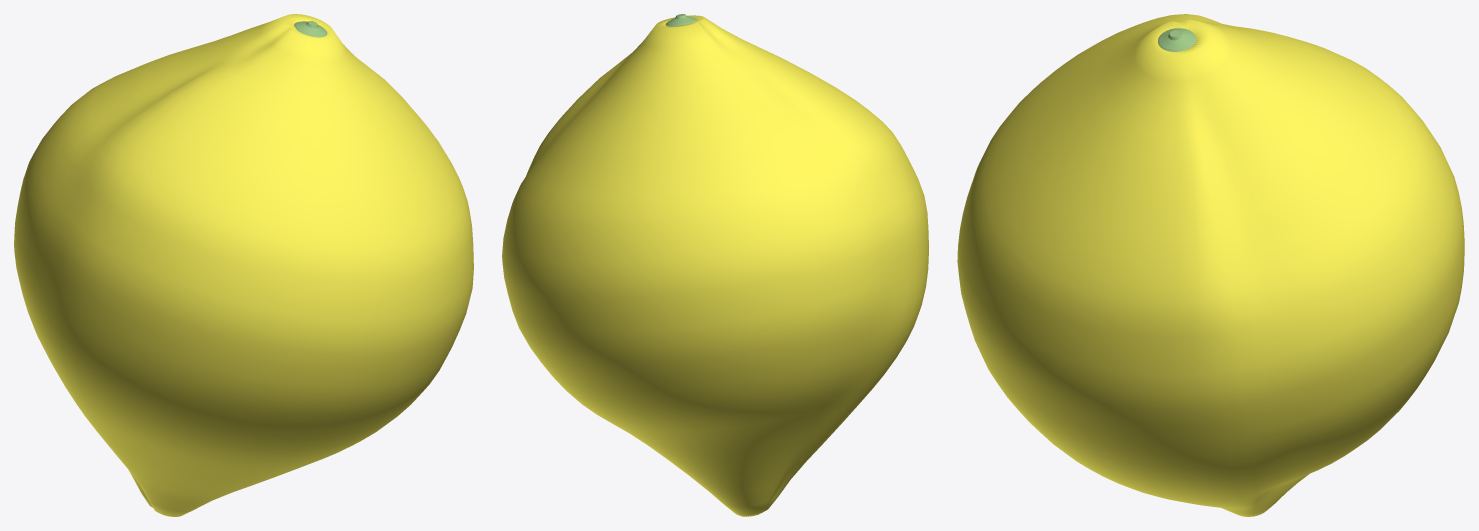
Rendered from lemon.glb.
3 views of the same model, side by side, from view 1: azimuth 30°, elevation 25°; view 2: azimuth 150°, elevation 25°; view 3: azimuth 270°, elevation 25° (orthographic). The views are drawn at different scales.
Visible parts, largest first — view 1: Sphere; view 2: Sphere; view 3: Sphere, Cylinder.
Boxes of the visible parts, x1,y1,x2,y2 form: Sphere: (14, 14, 473, 516); Sphere: (502, 15, 928, 516); Sphere: (957, 14, 1464, 516); Cylinder: (1158, 28, 1196, 51).
Size of the model in its own units: 2.06 by 2.41 by 2.06.
